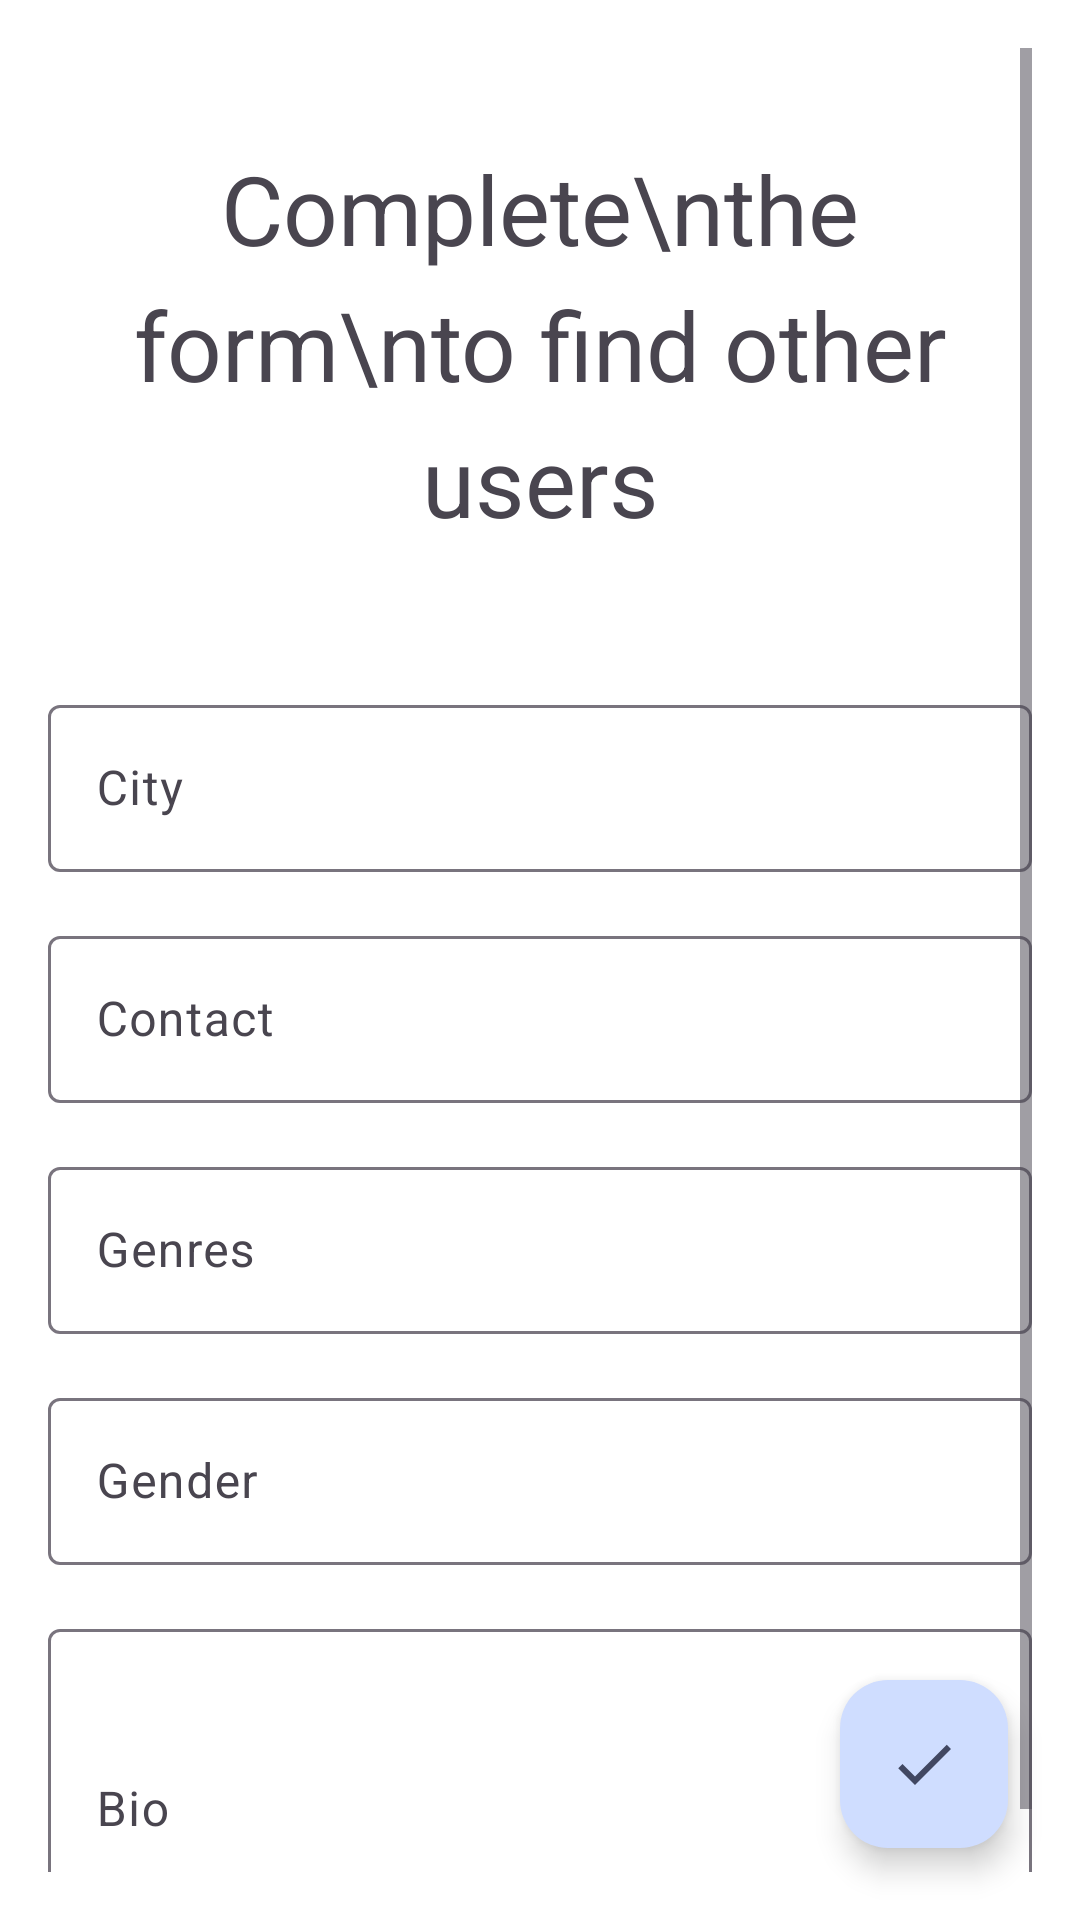

Where icons sit on this 1080x1920 app screen, as (x1, y1, x2, y2):
The form is completed!: (840, 1680, 1008, 1848)
